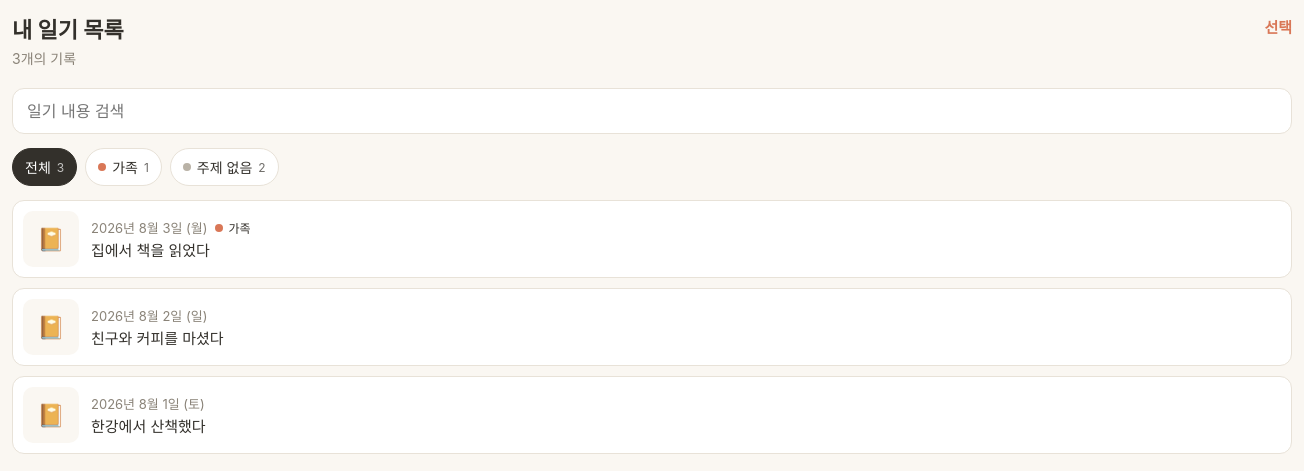
Test case: ListPage 검색 › 검색어가 들어간 일기만 보여주고 개수를 알려준다
Expected: the text "3개의 기록" is shown, [12, 50, 76, 67]
Type "커피" into the search field labelled "일기 내용 검색" at (652,111), box [12, 88, 1292, 134]
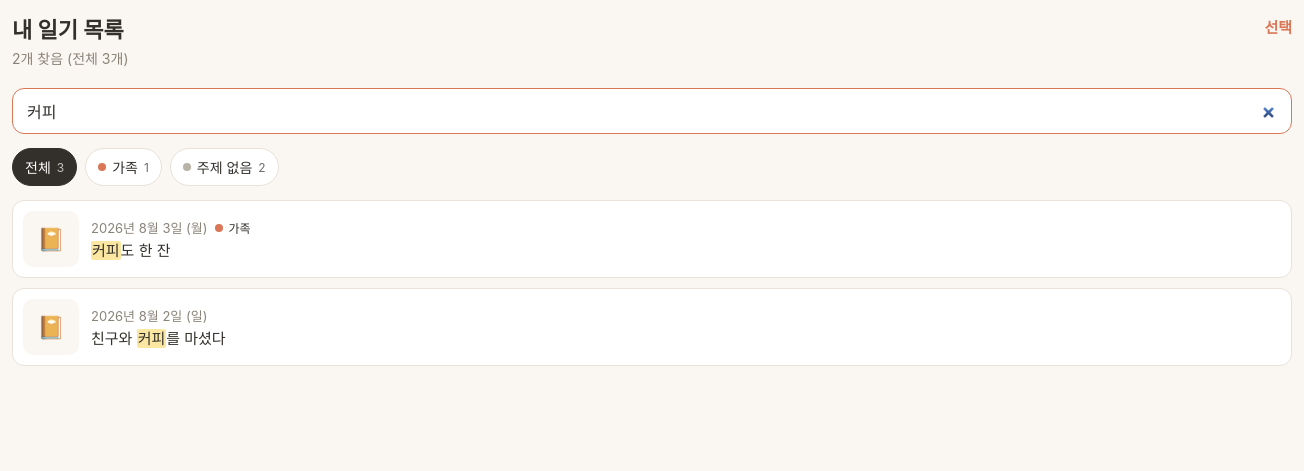
Result: the text "2개 찾음 (전체 3개)" is shown at [12, 48, 128, 68]
Result: the text "한강에서" is gone
Result: the text "커피" is shown 2 times at [91, 241, 121, 260]; [137, 329, 166, 348]
